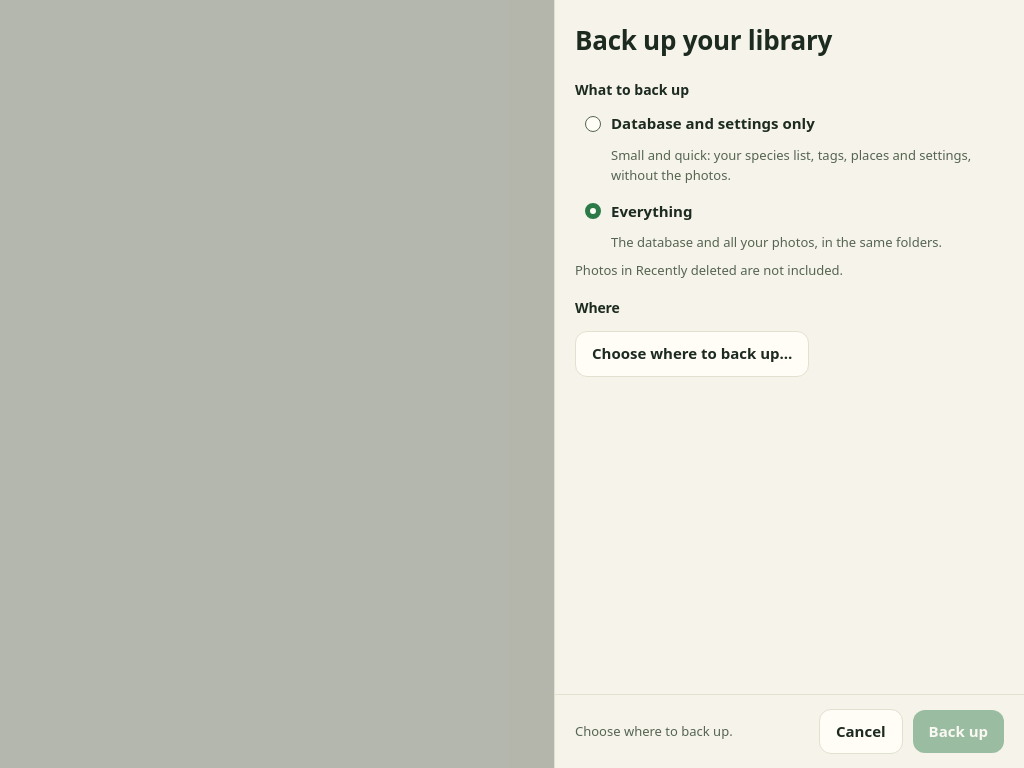
Test: the Recently deleted line is only for Everything
This screenshot has width=1024, height=768.
Step 1. Click the radio button labelled "Database and settings only" → (593, 124), box [585, 116, 601, 132]
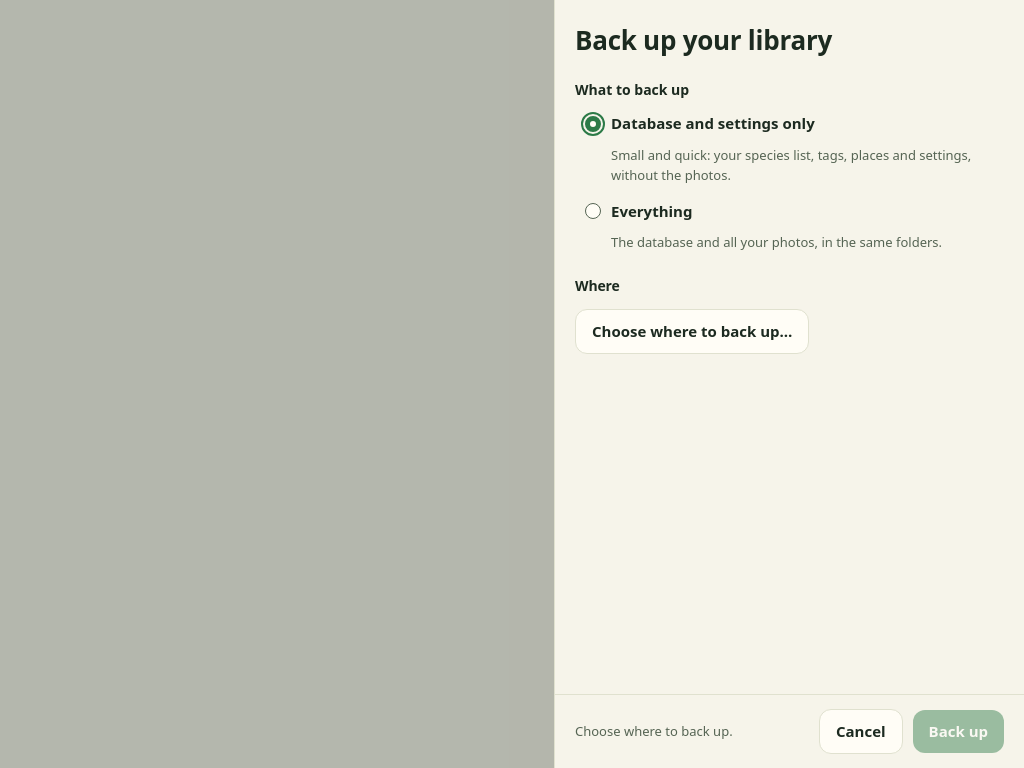
Expected: the text "Photos in Recently deleted are not included." is gone
Step 2. Click the radio button labelled "Everything" → (593, 212), box [585, 204, 601, 220]
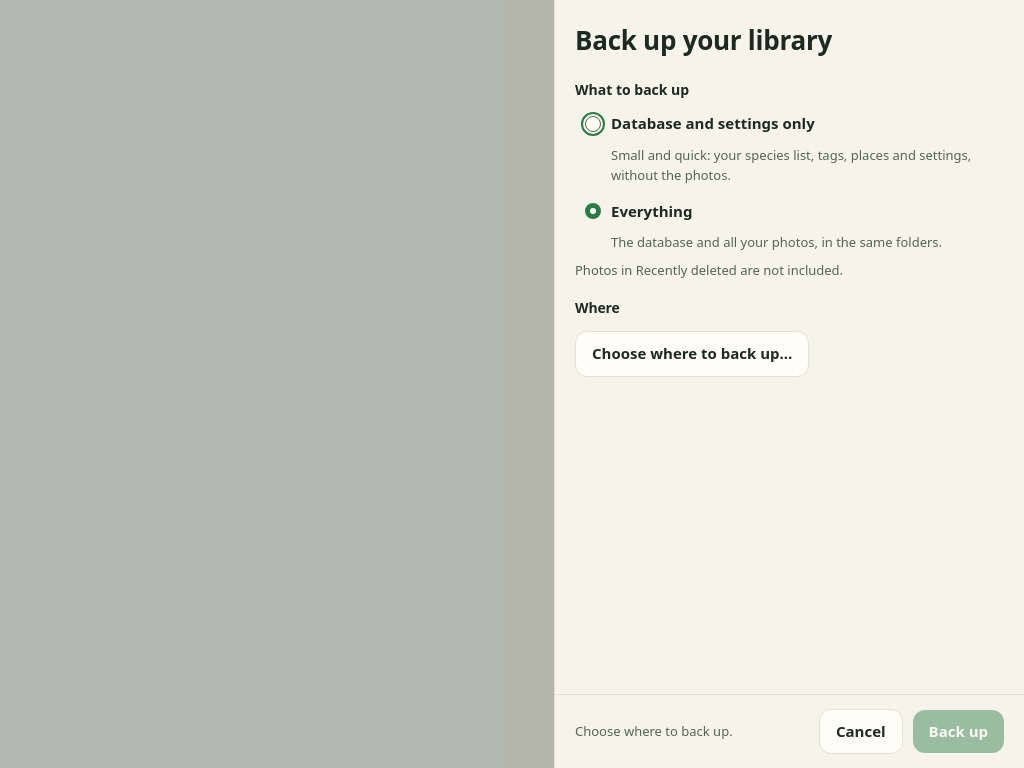
Expected: the text "Photos in Recently deleted are not included." is shown, [575, 261, 843, 279]
